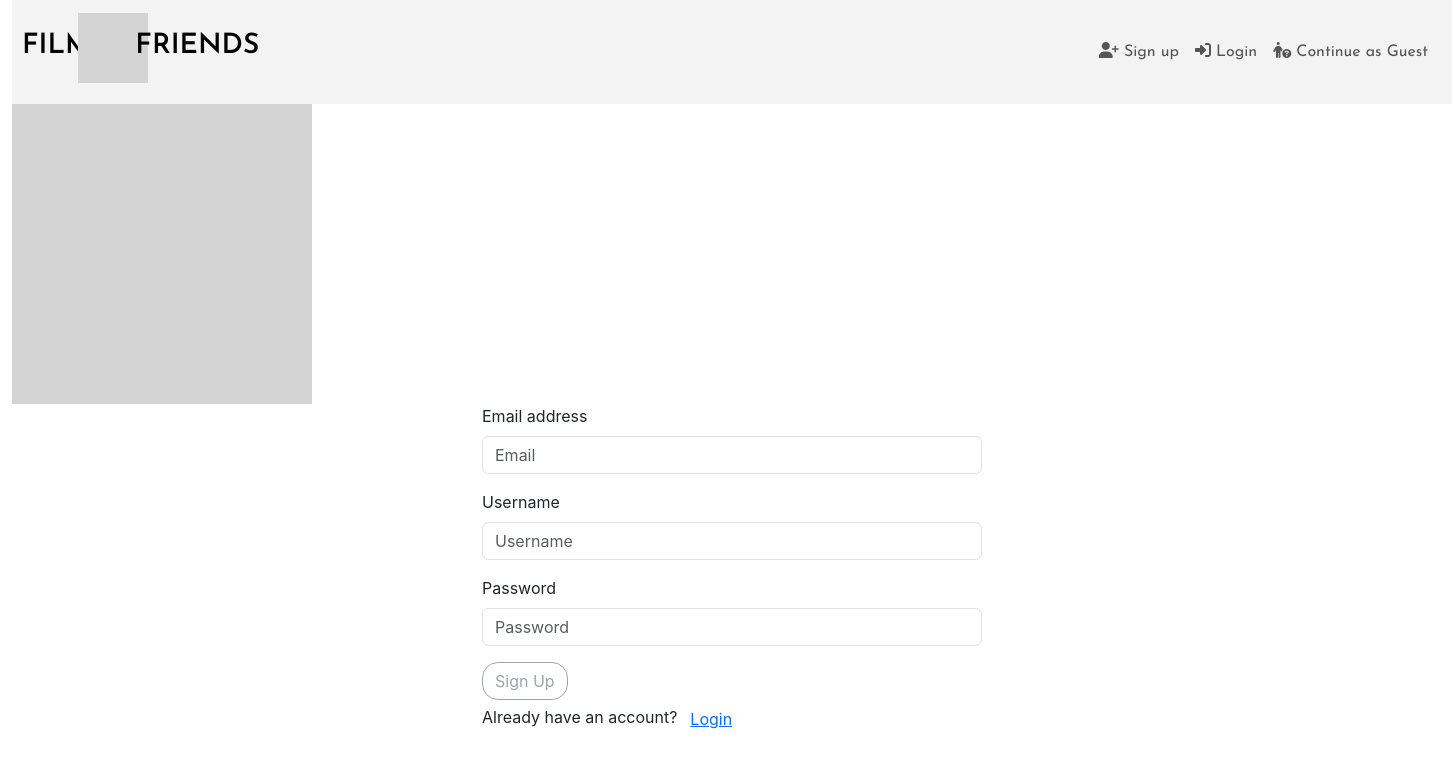
it: SIGN UP WITH INVALID DATA › Invalid email or password displays appropriate error message and doesn't redirect user to login page
// Input data to make submit button enabled
Type "user one" into the field labelled "Username" at (732, 541), box left=482, top=522, right=982, bottom=560
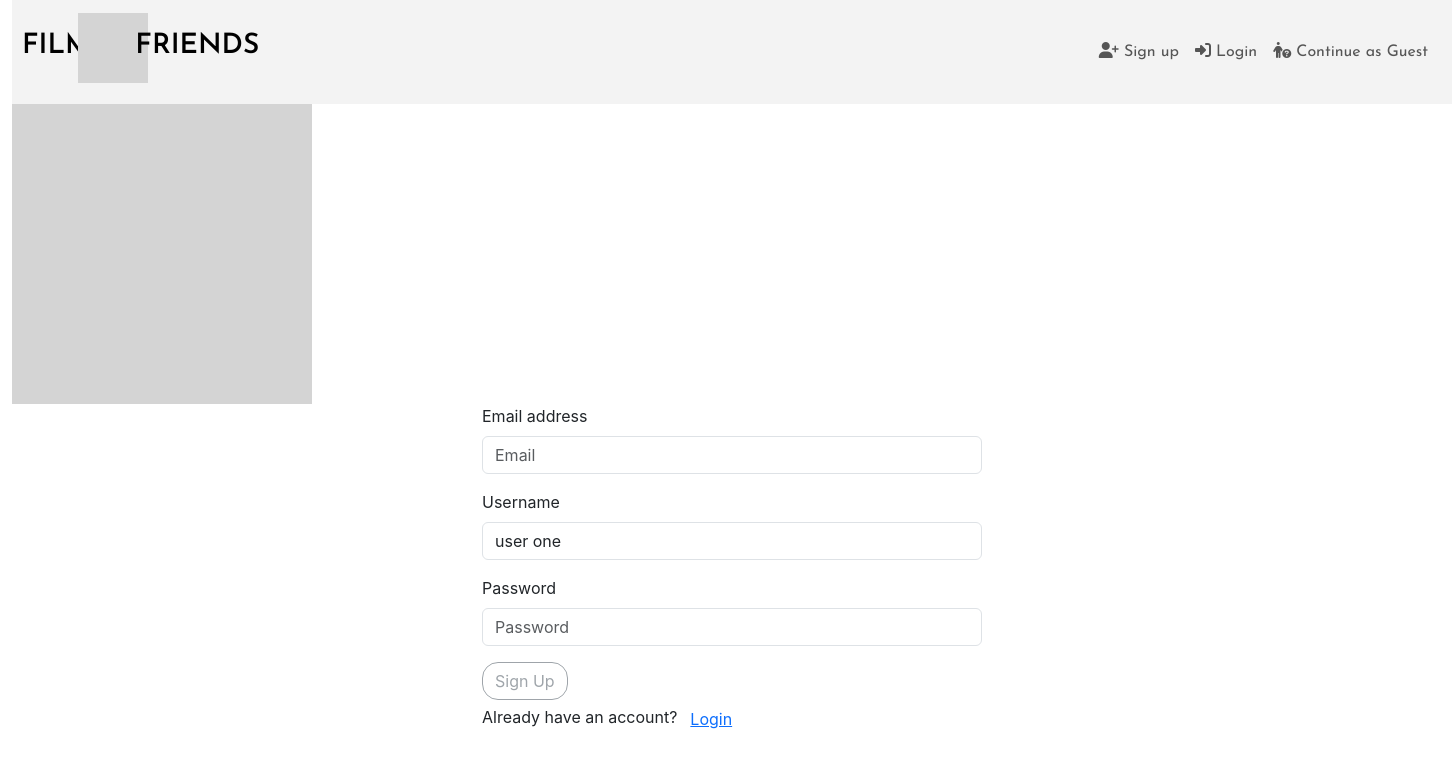
Type "user@email.com" into the field labelled "Email address" at (732, 455), box left=482, top=436, right=982, bottom=474
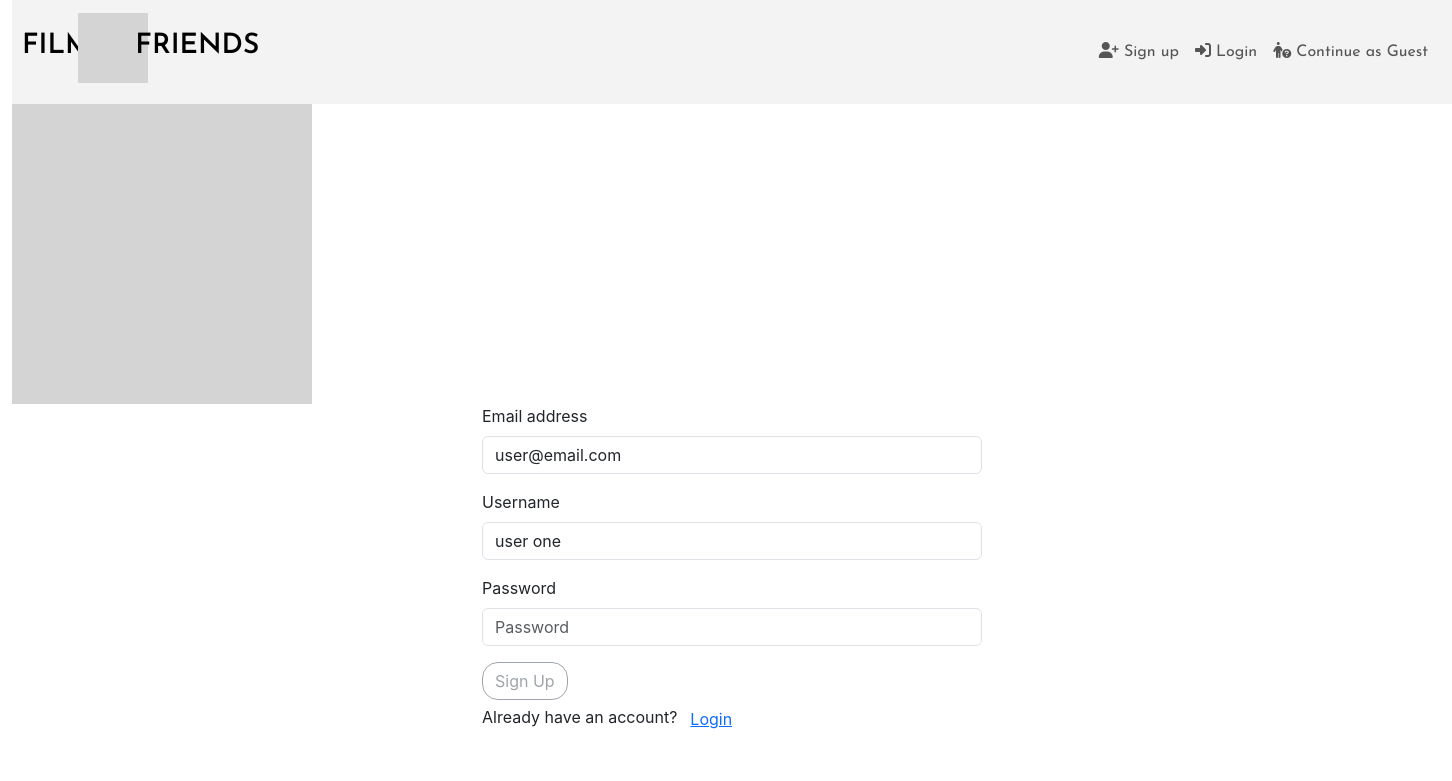
Type "mypwd12345" into the password field labelled "Password" at (732, 627), box left=482, top=608, right=982, bottom=646
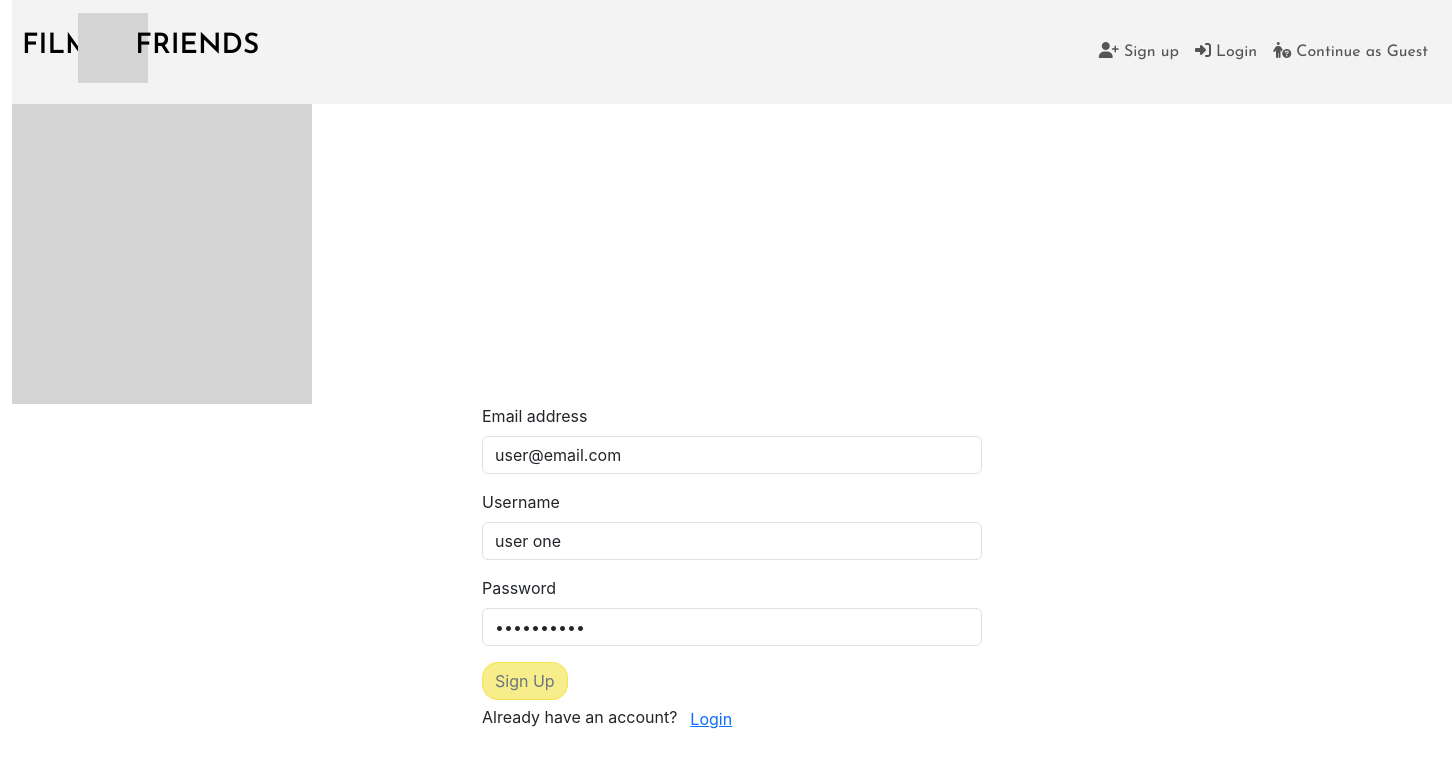
Click the button "Sign Up" at (525, 681), box left=482, top=662, right=568, bottom=700
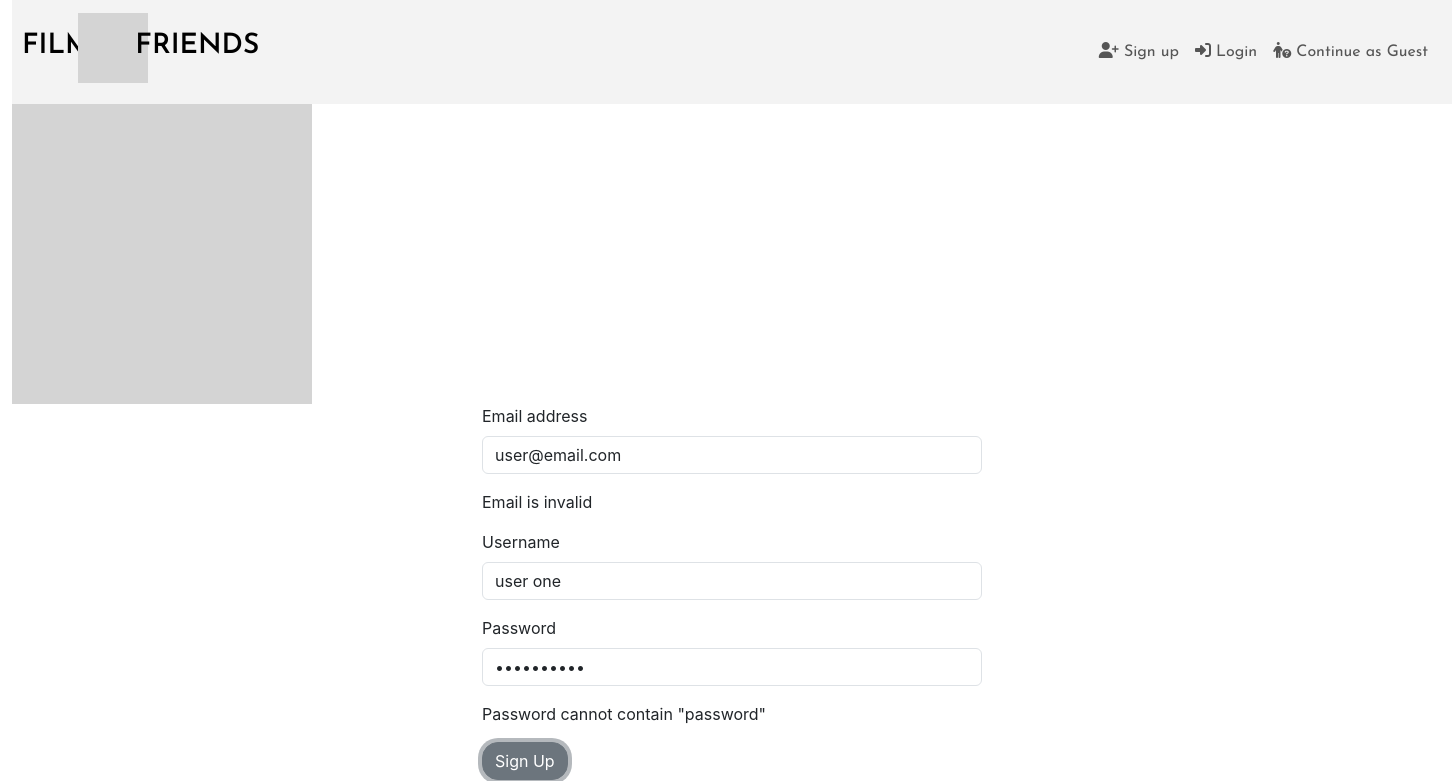
expect the text "Email is invalid" is shown: met, box left=482, top=492, right=592, bottom=512
expect the text "Password cannot contain \"password\"" is shown: met, box left=482, top=704, right=766, bottom=724
